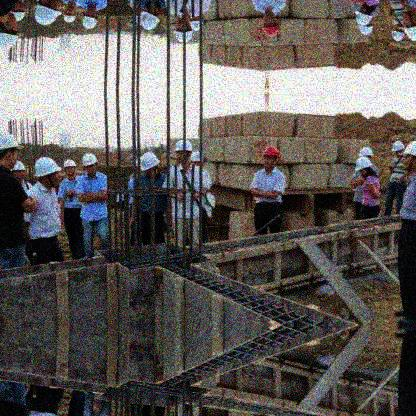helmet: (1, 12, 26, 51), (35, 157, 63, 187), (1, 131, 23, 169), (34, 1, 63, 27), (398, 139, 416, 171), (140, 6, 162, 32), (399, 8, 416, 41), (259, 145, 282, 169), (140, 151, 160, 178), (174, 19, 194, 43), (81, 8, 100, 30), (262, 15, 281, 37), (175, 140, 194, 162), (81, 152, 98, 174), (11, 2, 28, 23), (355, 157, 372, 177), (355, 7, 373, 25), (63, 2, 77, 24), (10, 161, 26, 179), (62, 157, 77, 174), (191, 15, 205, 32), (391, 25, 404, 42), (392, 141, 405, 157)
